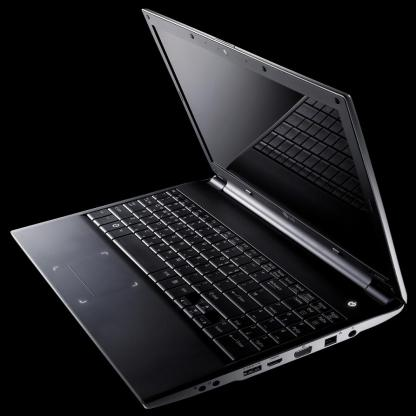board: (0, 12, 410, 414)
